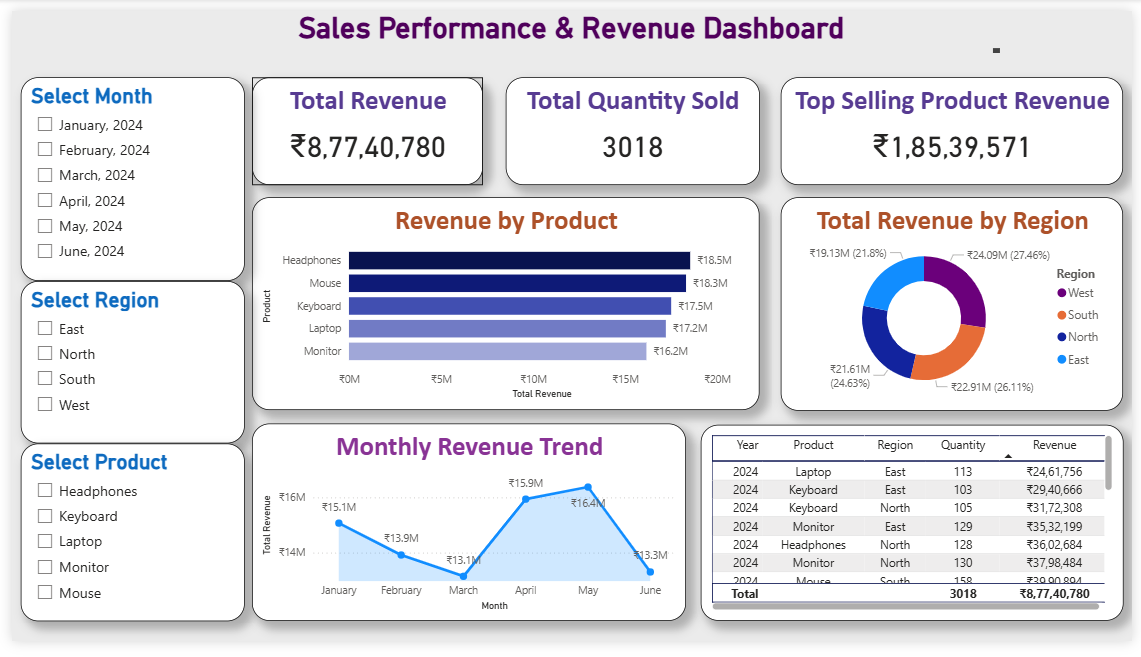

The page's visual inventory and layout, read from the dashboard file:
{"tool":"powerbi","page":{"name":"Page 1","canvas":[1280,720],"ordinal":0},"visuals":[{"type":"card","title":"Total Revenue","fields":{"Values":["Company_Sales_Data.Total Revenue"]},"box":[274.3,75.7,264.3,122.9],"z":0},{"type":"card","title":"Total Quantity Sold","fields":{"Values":["Company_Sales_Data.Total Quantity Sold"]},"box":[564.3,75.7,290,122.9],"z":1000},{"type":"card","title":"Top Selling Product Revenue","fields":{"Values":["Company_Sales_Data.Top Selling Product Revenue"]},"box":[878.6,75.7,391.4,122.9],"z":2000},{"type":"clusteredBarChart","title":"Revenue by Product","fields":{"Category":["Company_Sales_Data.Product"],"Y":["Company_Sales_Data.Total Revenue"]},"box":[274.3,212.9,580,242.9],"z":3000},{"type":"donutChart","fields":{"Category":["Company_Sales_Data.Region"],"Y":["Company_Sales_Data.Total Revenue"]},"box":[878.6,212.9,391.4,244.3],"z":4000},{"type":"slicer","title":"Select Month","fields":{"Values":["Company_Sales_Data.Month"]},"box":[10,75.7,255.7,232.9],"z":5000},{"type":"slicer","title":"Select Region","fields":{"Values":["Company_Sales_Data.Region"]},"box":[10,308.6,255.7,185.7],"z":6000},{"type":"slicer","title":"Select Product","fields":{"Values":["Company_Sales_Data.Product"]},"box":[10,494.3,255.7,202.9],"z":7000},{"type":"lineChart","title":"Monthly Revenue Trend","fields":{"Category":["Company_Sales_Data.Date.Variation.Date Hierarchy.Month"],"Y":["Company_Sales_Data.Total Revenue"]},"box":[274.3,471.4,495.7,225.7],"z":8000},{"type":"tableEx","fields":{"Values":["Company_Sales_Data.Date.Variation.Date Hierarchy.Year","Company_Sales_Data.Product","Company_Sales_Data.Region","Sum(Company_Sales_Data.Quantity)","Sum(Company_Sales_Data.Revenue)"]},"box":[787.1,472.9,482.9,224.3],"z":9000},{"type":"textbox","title":"Sales Performance & Revenue Dashboard","box":[144.3,0,990,52.9],"z":10000}]}

Visuals, with their boxes in screenshot pixels (x1, y1, x2, y2), scaled from the page's 1280x720 canvas onto the 1141x657 screenshot:
"Total Revenue" card: <box>245,69,480,181</box>
"Total Quantity Sold" card: <box>503,69,762,181</box>
"Top Selling Product Revenue" card: <box>783,69,1132,181</box>
"Revenue by Product" clusteredBarChart: <box>245,194,762,416</box>
donutChart - Company_Sales_Data.Region x Company_Sales_Data.Total Revenue: <box>783,194,1132,417</box>
"Select Month" slicer: <box>9,69,237,282</box>
"Select Region" slicer: <box>9,282,237,451</box>
"Select Product" slicer: <box>9,451,237,636</box>
"Monthly Revenue Trend" lineChart: <box>245,430,686,636</box>
tableEx - Company_Sales_Data.Date.Variation.Date Hierarchy.Year x Company_Sales_Data.Product: <box>702,432,1132,636</box>
"Sales Performance & Revenue Dashboard" textbox: <box>129,0,1011,48</box>
